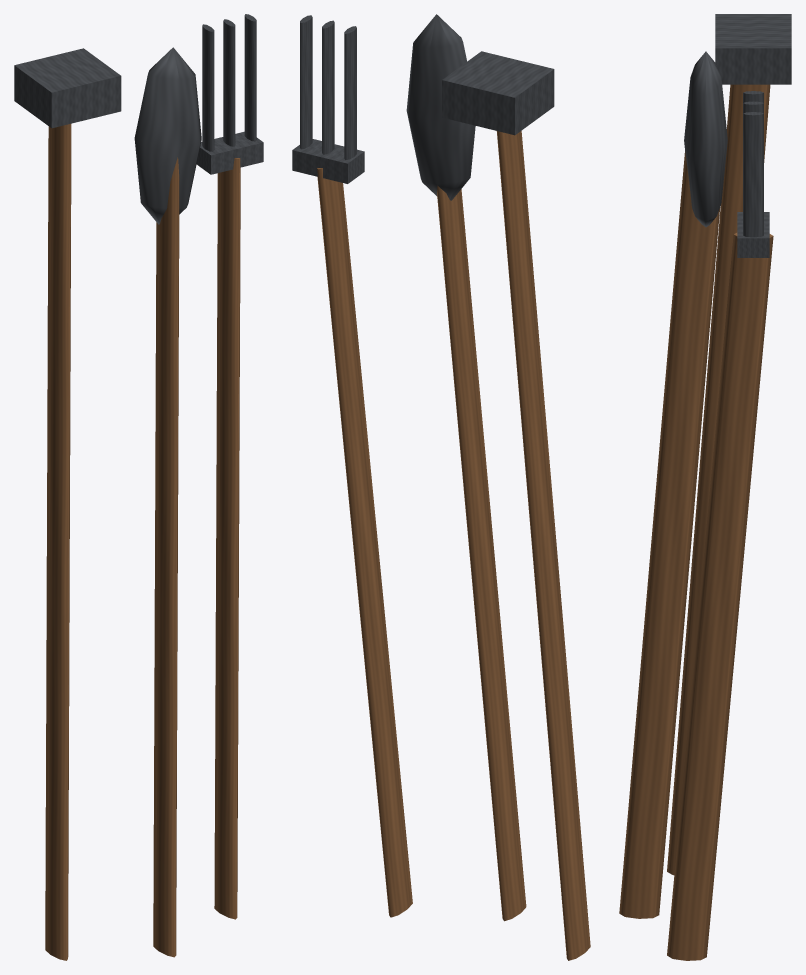
The model's file is tools.glb.
The picture shows the model from 3 angles, left to right: view 1: azimuth 30°, elevation 25°; view 2: azimuth 150°, elevation 25°; view 3: azimuth 270°, elevation 25°; orthographic projection. The views are drawn at different scales.
Parts seen in each view (by area): view 1: tools; view 2: tools; view 3: tools.
Boxes of the visible parts, x1,y1,x2,y2 form: tools: (14, 14, 263, 960); tools: (292, 14, 590, 960); tools: (619, 14, 791, 960).
Bounding box in the file's own units: 0.4864 × 1.7 × 0.3.
Materials: 1 (1 with a texture image).
